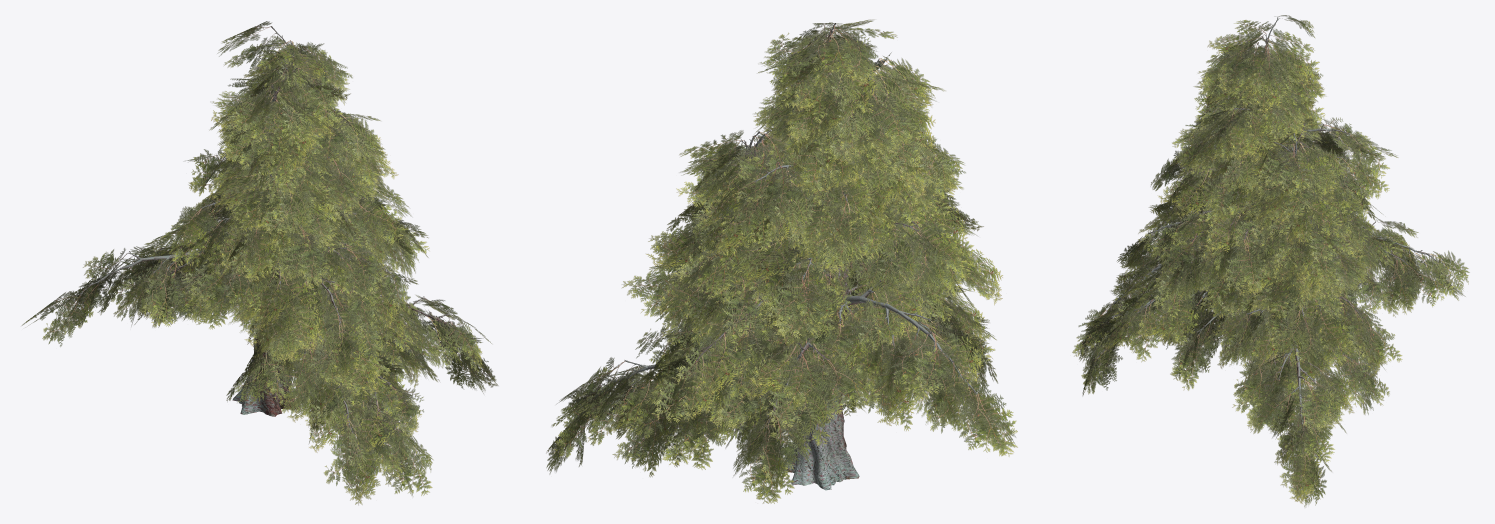
The model's file is conifer_tree_high-poly.glb.
3 renders of one model, left to right at view 1: azimuth 30°, elevation 25°; view 2: azimuth 150°, elevation 25°; view 3: azimuth 270°, elevation 25°, orthographic. The views are drawn at different scales.
Visible parts, largest first — view 1: Object_3, Object_6, Object_7, Object_9, Object_5, Object_4, Object_8, Object_2; view 2: Object_3, Object_6, Object_4, Object_7, Object_9, Object_8, Object_5, Object_2; view 3: Object_7, Object_6, Object_3, Object_9, Object_4, Object_5, Object_8, Object_2.
Part boxes in pixels (<box>): Object_3: <box>72,41,485,480</box>; Object_6: <box>83,35,481,505</box>; Object_7: <box>113,49,498,500</box>; Object_9: <box>28,36,462,472</box>; Object_5: <box>47,50,481,495</box>; Object_4: <box>22,21,482,495</box>; Object_8: <box>42,26,491,485</box>; Object_2: <box>76,26,453,435</box>; Object_3: <box>546,28,989,475</box>; Object_6: <box>567,28,995,484</box>; Object_4: <box>551,25,1011,503</box>; Object_7: <box>546,19,1002,459</box>; Object_9: <box>612,27,1017,503</box>; Object_8: <box>557,22,1015,468</box>; Object_5: <box>553,34,1001,457</box>; Object_2: <box>579,23,977,490</box>; Object_7: <box>1077,31,1441,503</box>; Object_6: <box>1079,45,1418,487</box>; Object_3: <box>1083,33,1469,507</box>; Object_9: <box>1072,20,1458,444</box>; Object_4: <box>1082,17,1465,462</box>; Object_5: <box>1082,44,1417,471</box>; Object_8: <box>1081,15,1426,457</box>; Object_2: <box>1106,17,1435,452</box>.
Bounding box in the file's own units: 9.21 × 8.58 × 8.32.
8 materials, 8 textured.
